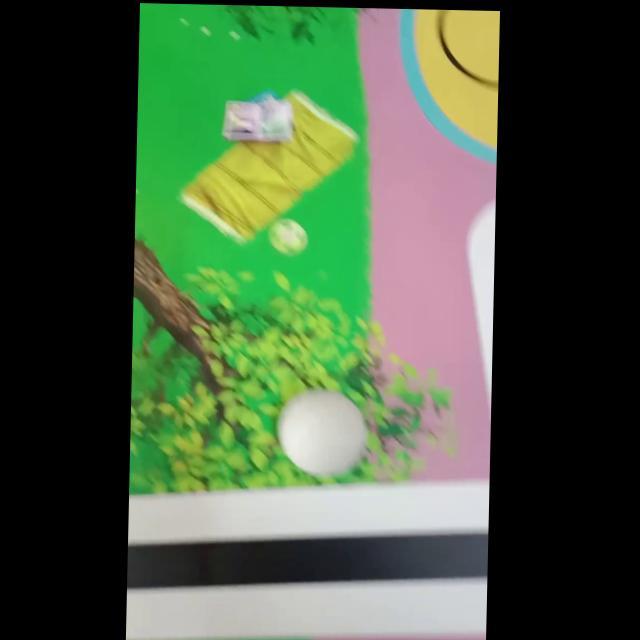white ball: (276, 387, 368, 477)
